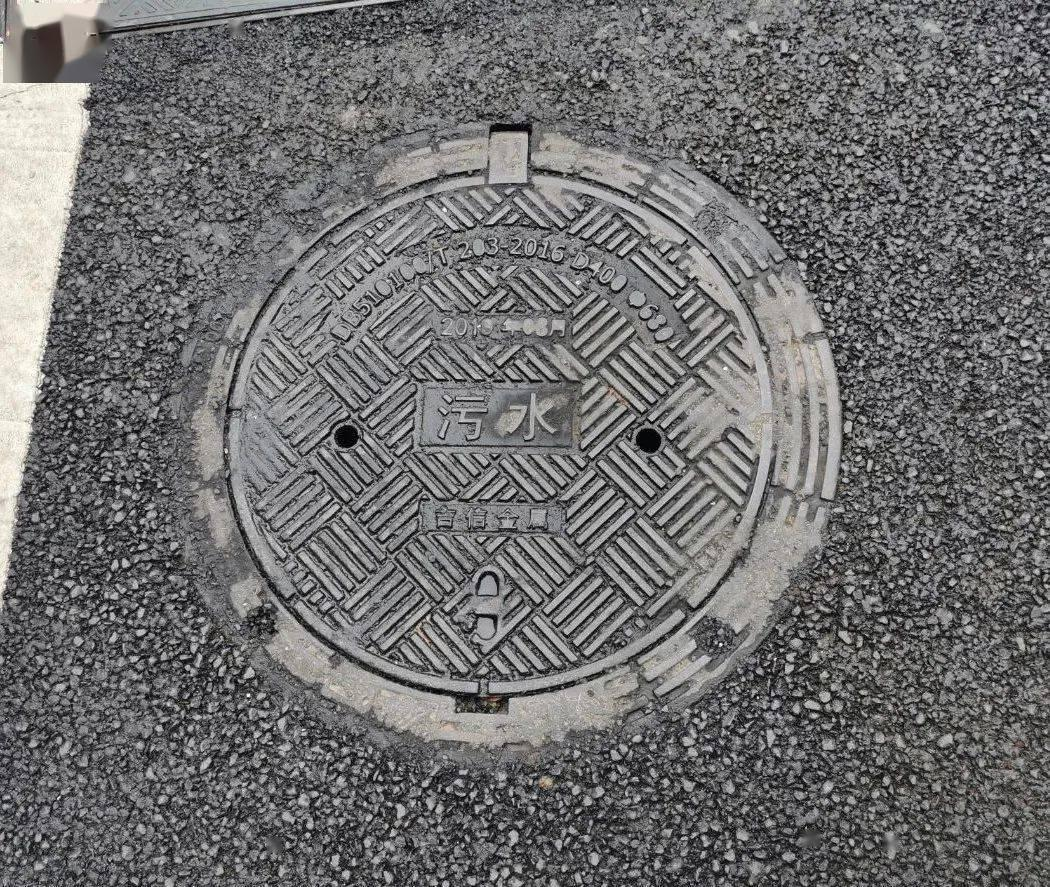wellcover: (157, 112, 823, 766)
